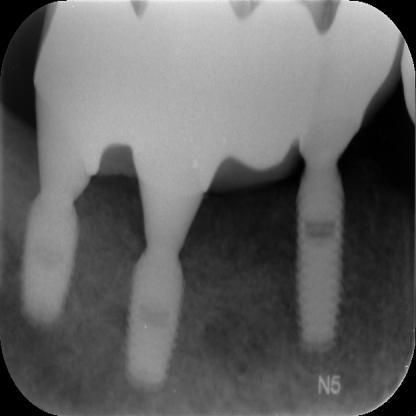Bicon: (122, 199, 206, 387), (295, 169, 352, 360), (21, 190, 86, 327)
